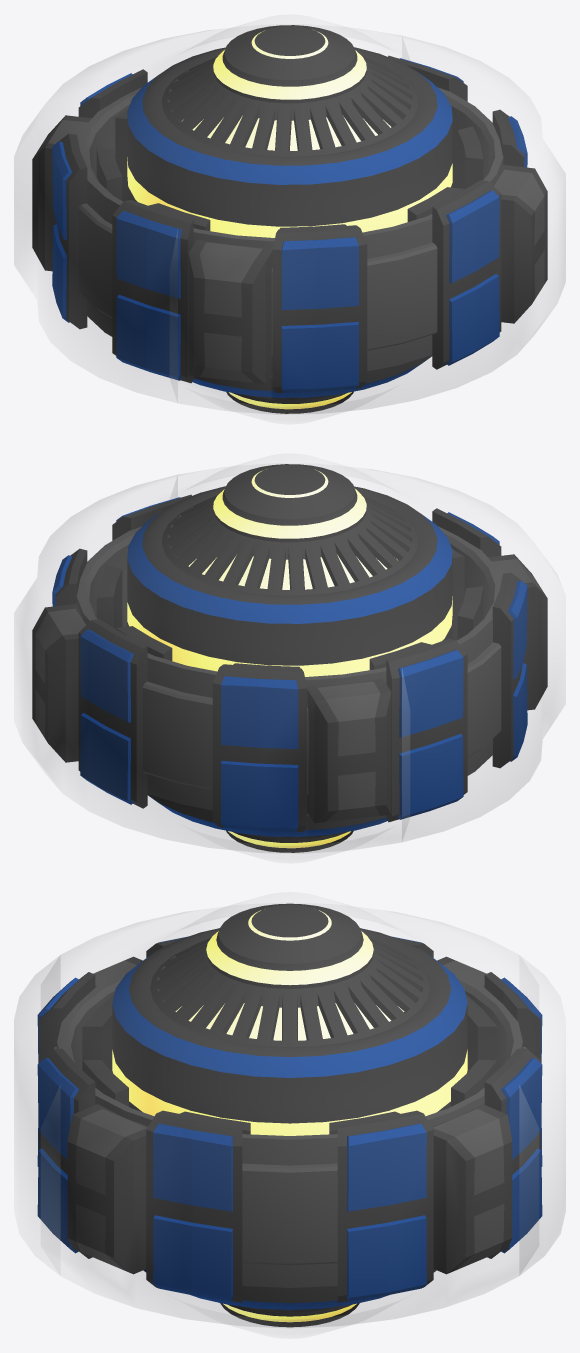
The model's file is 01_defence_aegisEmitter.glb.
The picture shows the model from 3 angles, top to bottom: view 1: azimuth 30°, elevation 25°; view 2: azimuth 150°, elevation 25°; view 3: azimuth 270°, elevation 25°; orthographic projection. The views are drawn at different scales.
Visible parts, largest first — view 1: 01_defence_aegisEmitter_aegis, 01_defence_aegisEmitter, 01_defence_aegisEmitter_ring, 01_defence_aegisEmitter_ring.001; view 2: 01_defence_aegisEmitter_aegis, 01_defence_aegisEmitter, 01_defence_aegisEmitter_ring.001, 01_defence_aegisEmitter_ring; view 3: 01_defence_aegisEmitter_aegis, 01_defence_aegisEmitter, 01_defence_aegisEmitter_ring, 01_defence_aegisEmitter_ring.001.
Part boxes in pixels (x1,y1,x2,y2): 01_defence_aegisEmitter_aegis: (14, 15, 565, 423); 01_defence_aegisEmitter: (32, 25, 547, 413); 01_defence_aegisEmitter_ring: (96, 126, 483, 229); 01_defence_aegisEmitter_ring.001: (115, 110, 464, 230); 01_defence_aegisEmitter_aegis: (14, 454, 565, 862); 01_defence_aegisEmitter: (32, 464, 547, 852); 01_defence_aegisEmitter_ring.001: (96, 565, 483, 668); 01_defence_aegisEmitter_ring: (115, 549, 464, 669); 01_defence_aegisEmitter_aegis: (14, 892, 565, 1338); 01_defence_aegisEmitter: (37, 903, 542, 1327); 01_defence_aegisEmitter_ring: (82, 994, 497, 1134); 01_defence_aegisEmitter_ring.001: (82, 994, 497, 1134).
Bounding box in the file's own units: 1.07 × 0.8719 × 1.07.
